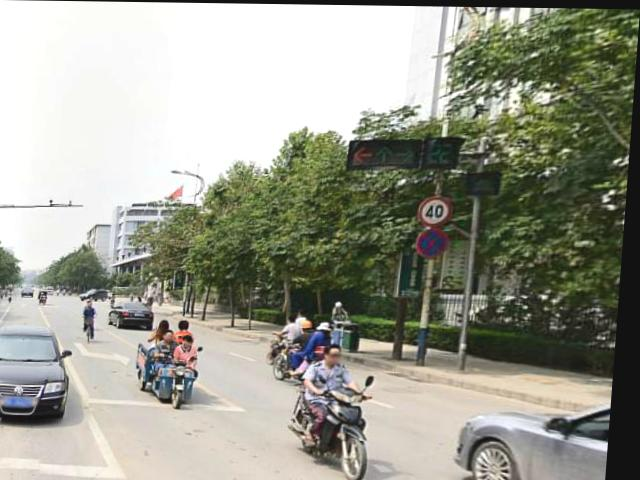limit40: (420, 194, 456, 226)
